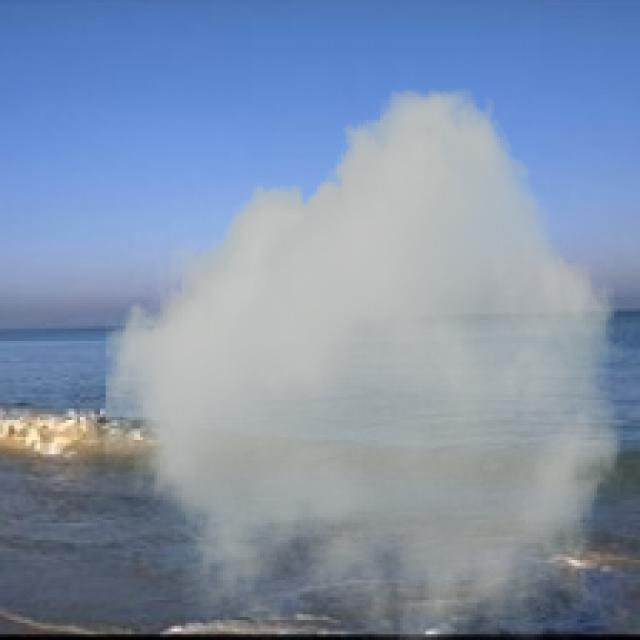Smoke: (105, 88, 626, 638)
